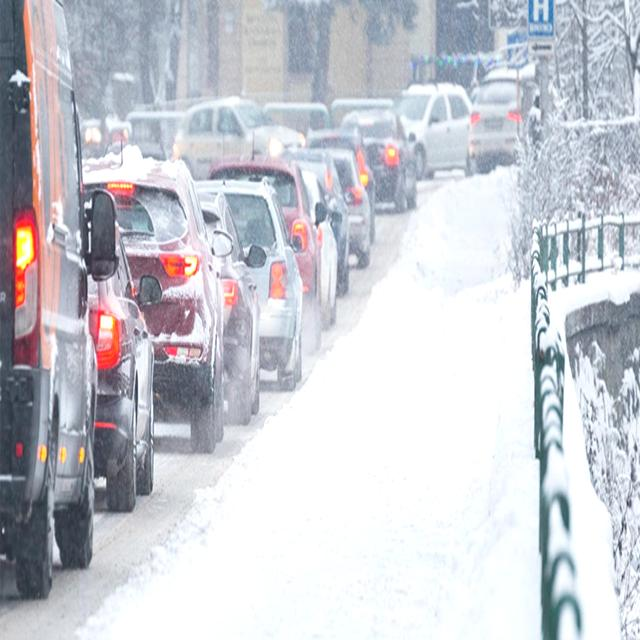Car: (82, 159, 235, 453), (82, 219, 166, 512), (208, 157, 328, 350), (203, 177, 305, 391), (189, 190, 268, 427), (282, 152, 355, 296), (169, 97, 307, 167), (308, 123, 378, 244), (291, 168, 344, 326), (341, 105, 417, 213), (469, 64, 535, 178), (397, 77, 472, 176), (314, 145, 371, 269)
Van: (0, 0, 122, 597)
